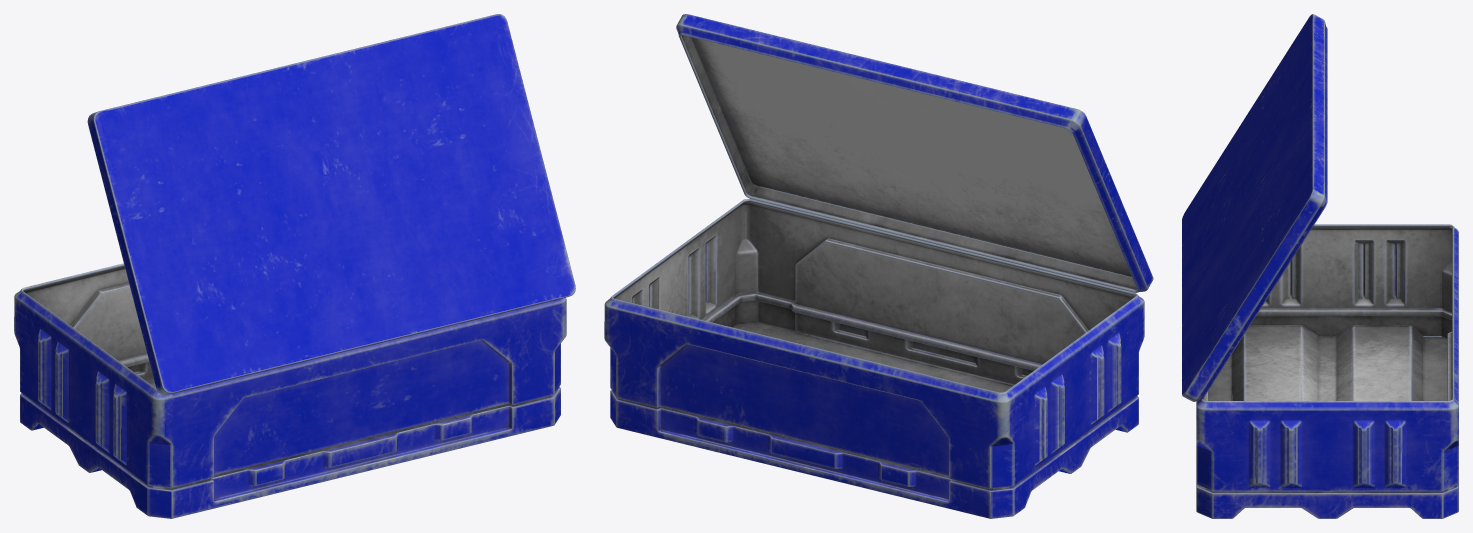
Rendered from Fish_Board_1.fbx.
The picture shows the model from 3 angles, left to right: view 1: azimuth 30°, elevation 25°; view 2: azimuth 150°, elevation 25°; view 3: azimuth 270°, elevation 25°; orthographic projection. The views are drawn at different scales.
Visible parts, largest first — view 1: Cube.001, Cube.007; view 2: Cube.007, Cube.001; view 3: Cube.007, Cube.001.
Boxes of the visible parts, x1,y1,x2,y2 form: Cube.001: [87, 14, 575, 395]; Cube.007: [14, 263, 566, 518]; Cube.007: [604, 199, 1144, 518]; Cube.001: [676, 14, 1153, 292]; Cube.007: [1196, 224, 1458, 518]; Cube.001: [1182, 14, 1327, 401].
Size of the model in its own units: 2.28 by 1.85 by 1.42.
